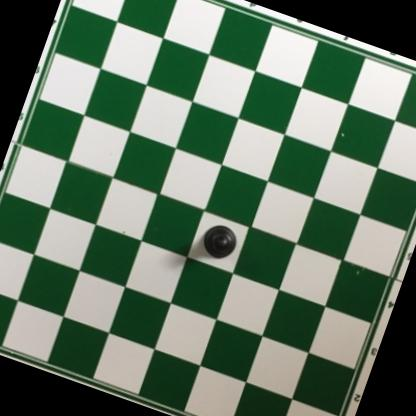black-pawn: (196, 219, 241, 264)
